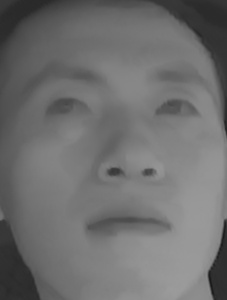eye: (150, 88, 203, 125), (39, 92, 95, 127)
mouth: (81, 198, 177, 252)
